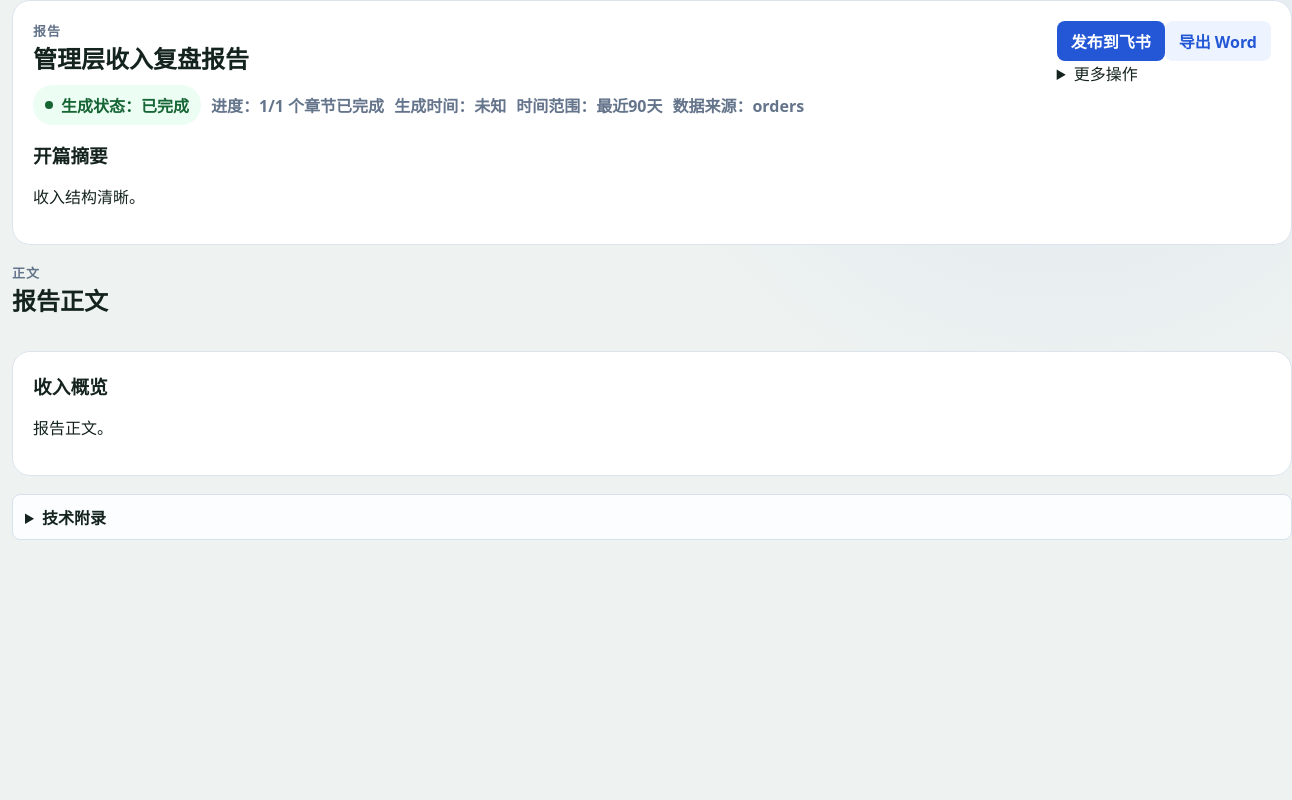
Scenario: workspace product components › shows Feishu publish warnings with the link when publish succeeds with warnings
Click the button "发布到飞书" at (1111, 41), box [1057,21,1165,61]
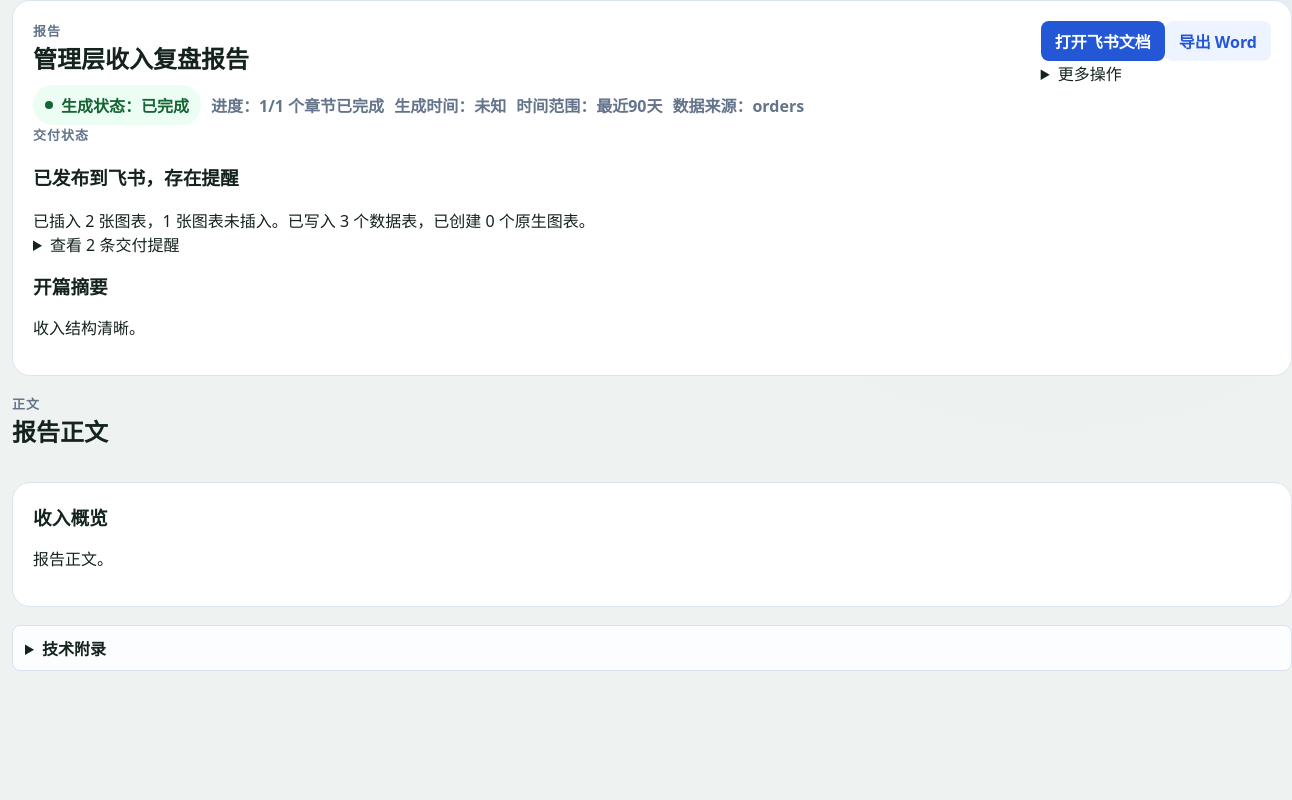
Now the heading "已发布到飞书，存在提醒" is shown, box [33,165,239,190]
Now the text "已插入 2 张图表，1 张图表未插入。" is shown, box [33,210,288,232]
Now the text "已写入 3 个数据表，已创建 0 个原生图表。" is shown, box [288,210,595,232]
